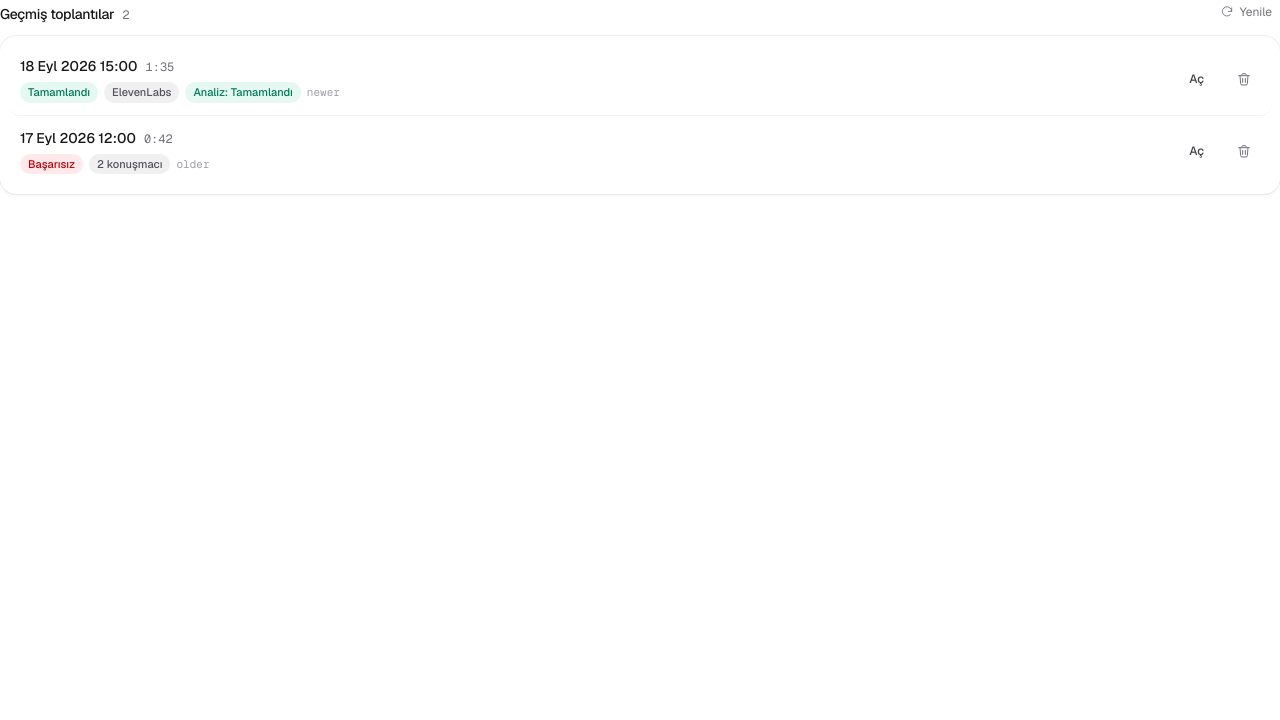
Test: MeetingHistory deletion › cancel closes the dialog and leaves the meeting untouched
What coordinates should you click on to do the following:
click the button named "Toplantıyı sil"
I would click on:
 (1244, 79)
Its box is [1228, 63, 1260, 95].
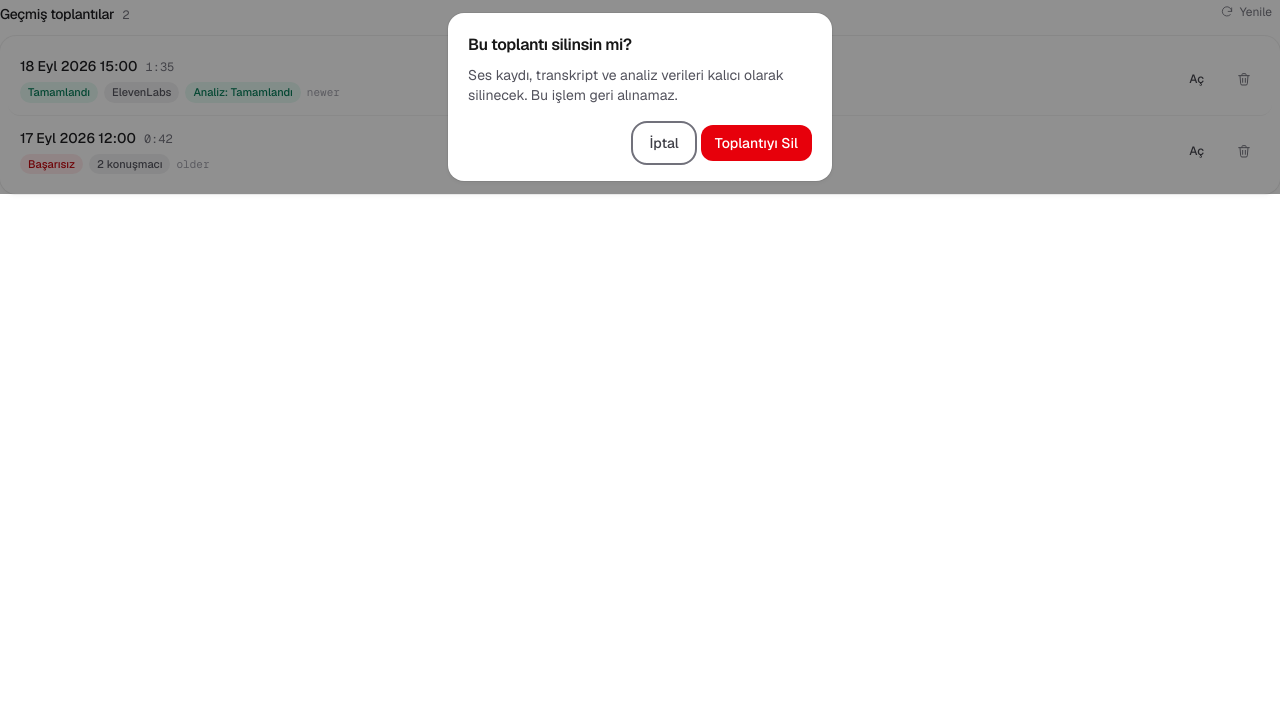
What coordinates should you click on to do the following:
click the button "İptal"
I would click on:
 (664, 143)
Its box is [635, 125, 693, 161].
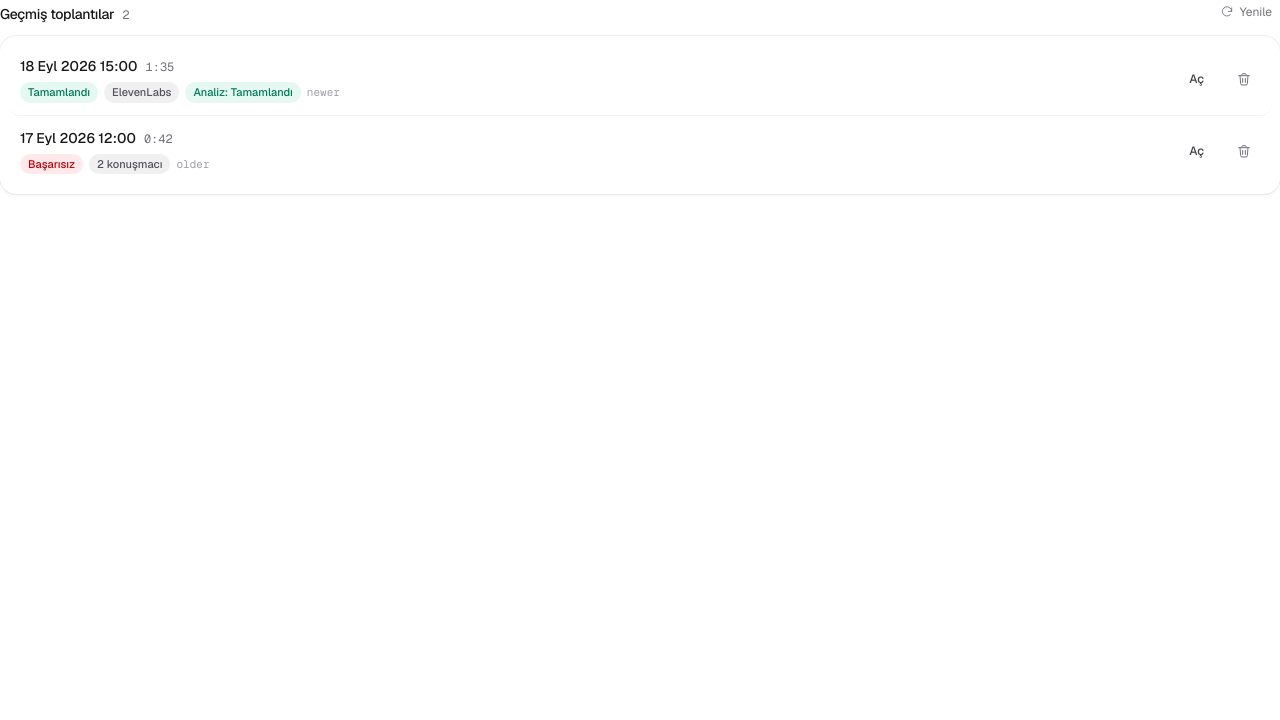
Check: the number of list items is 2, box [8, 44, 1272, 116]; [8, 116, 1272, 186]
Check: the dialog is gone
